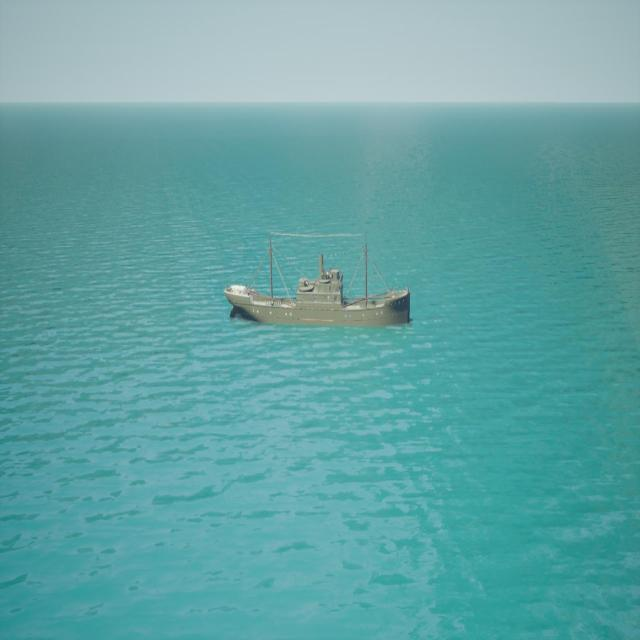fishing ship: (225, 233, 413, 328)
